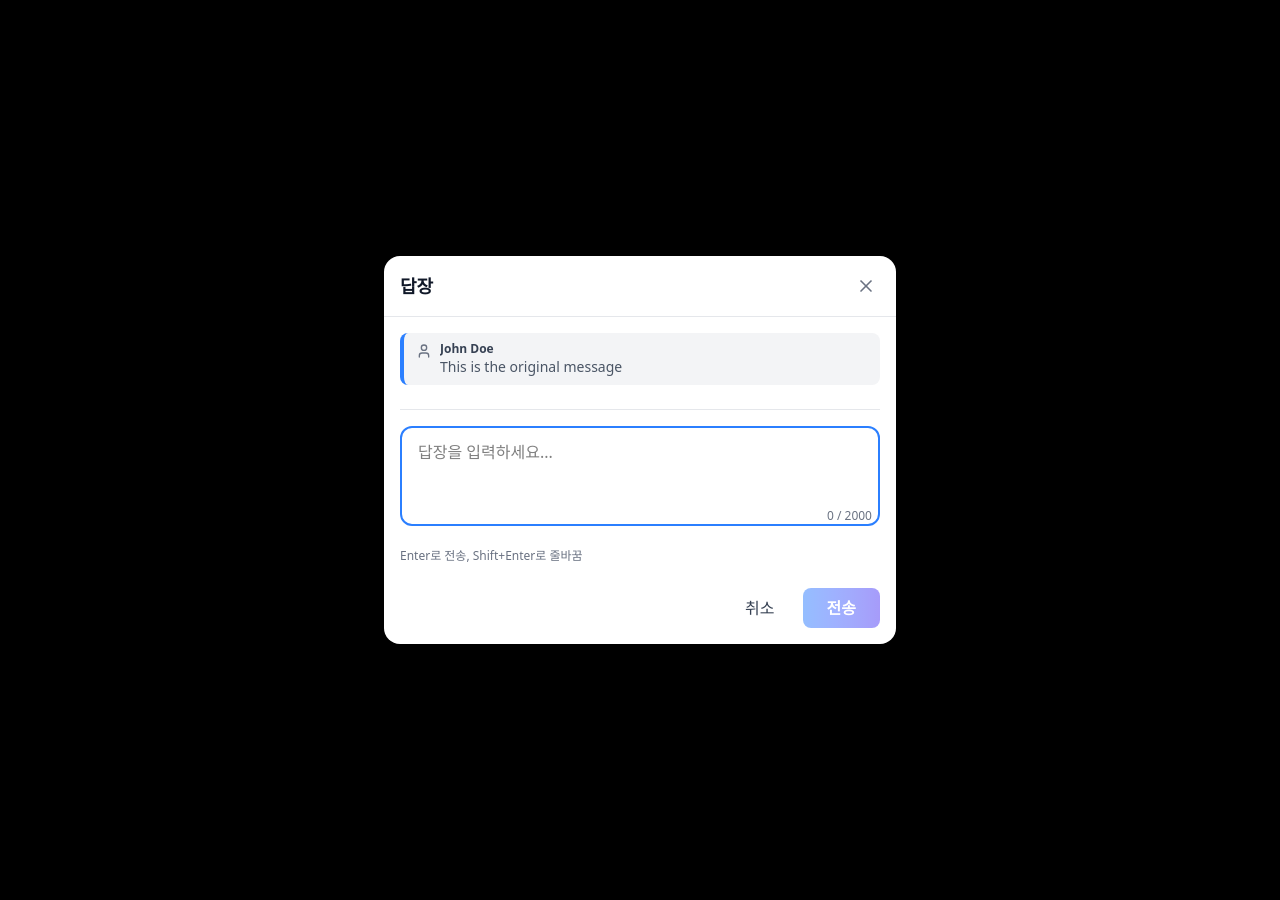
ReplyModal › send reply functionality › should clear error message when user starts typing again
Type "Reply text" into the text box named "답장 입력".
click(640, 476); type("Reply text")  # box [400,426,880,526]
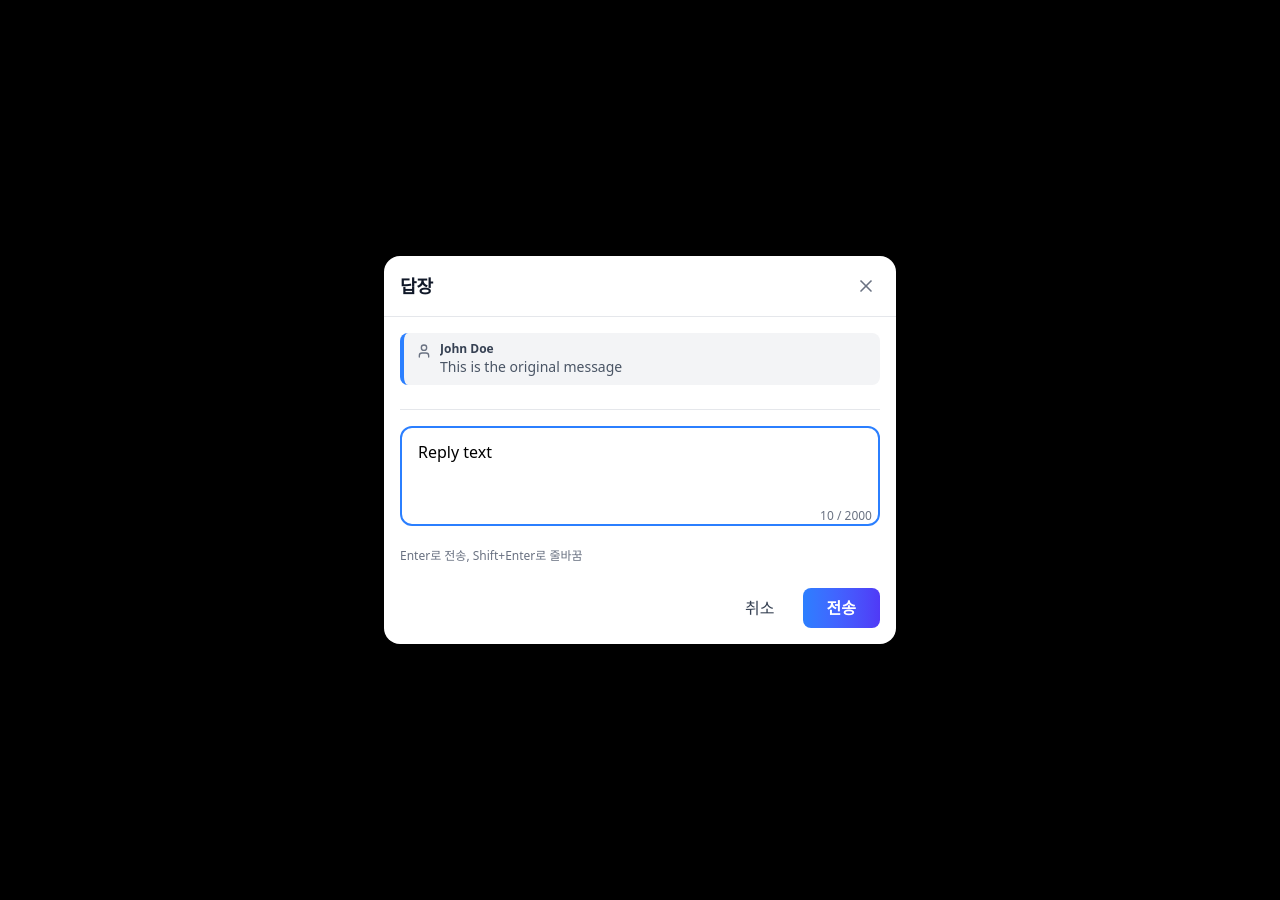
Click the button "전송".
click(841, 608)  # box [802,588,880,628]
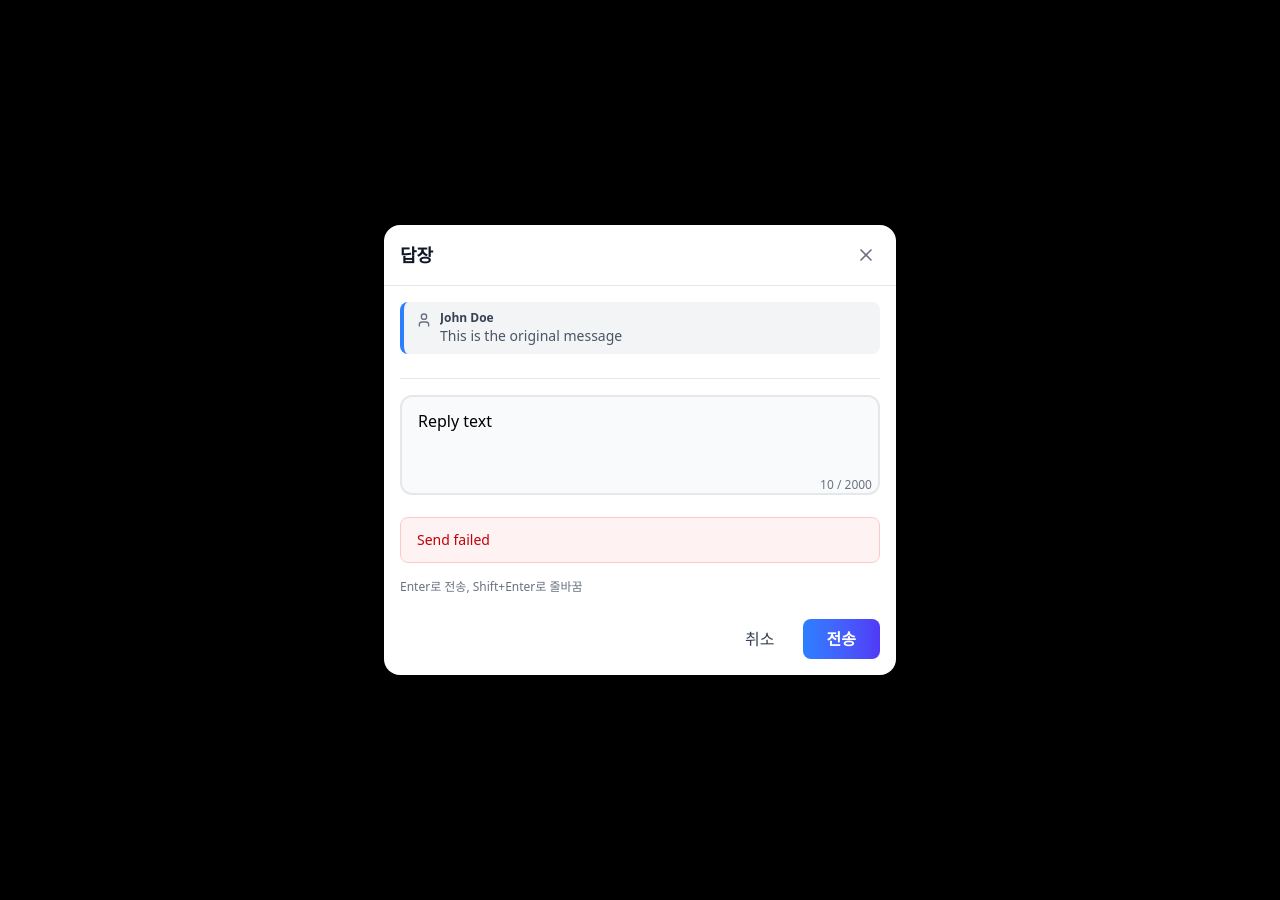
Now the text "Send failed" is shown, box [400,517,880,563]
// Click cancel - should show confirmation dialog since there's unsaved content
Click the button "취소".
click(760, 639)  # box [729,619,791,659]
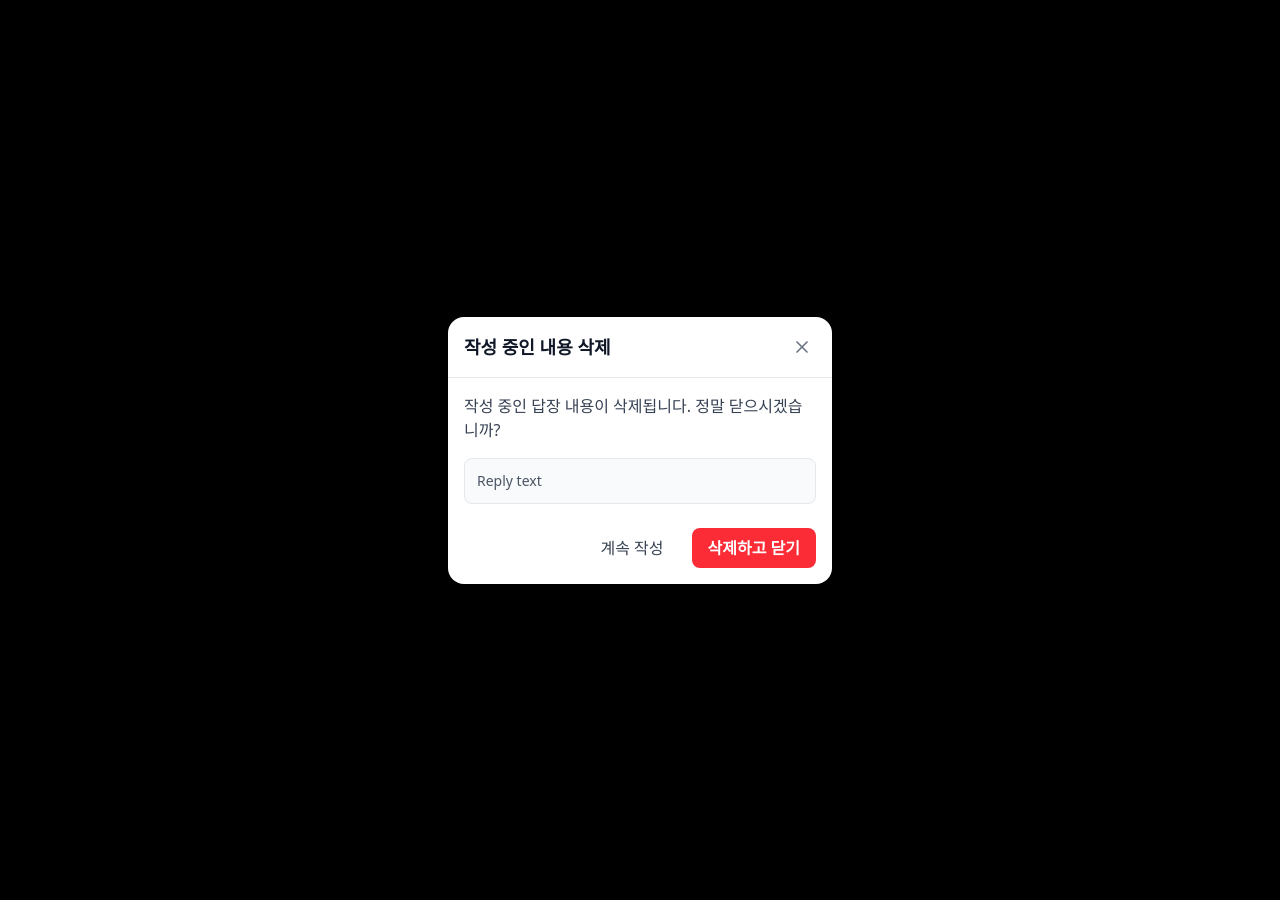
Now the heading "작성 중인 내용 삭제" is shown, box [464,332,610,360]
